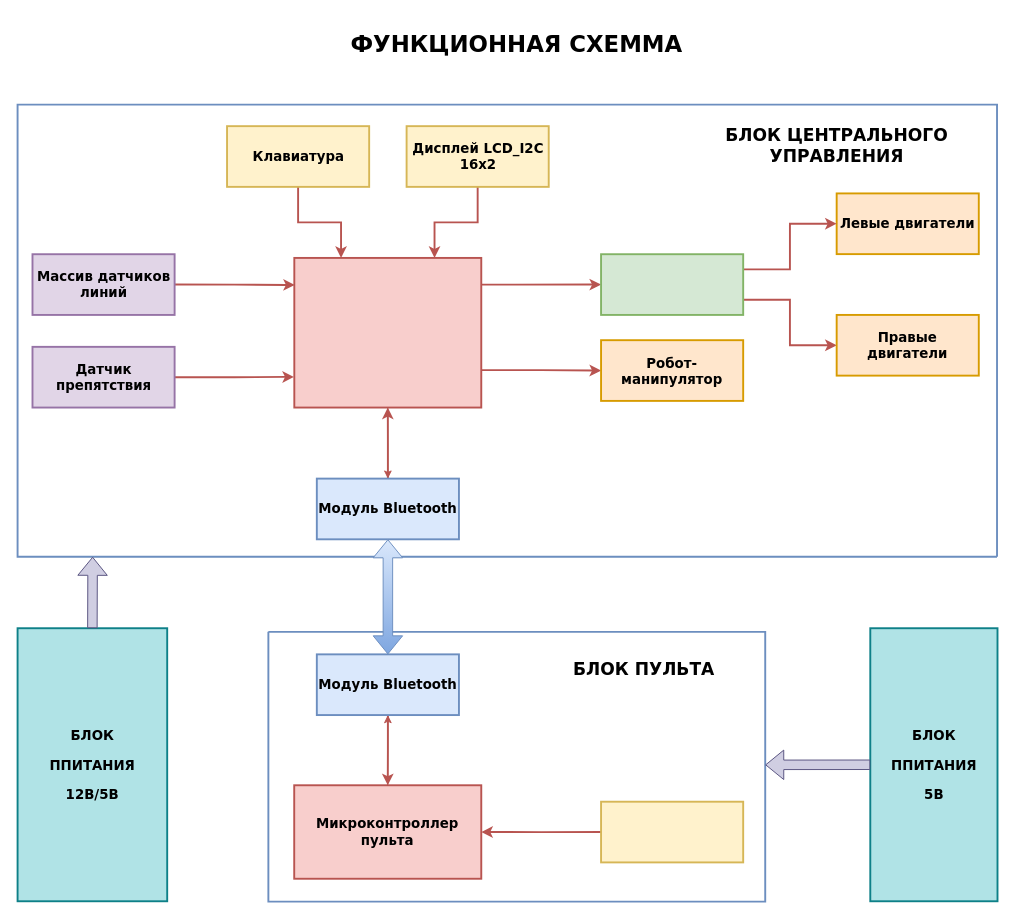
The diagram is 1015 pixels wide and 921 high, and some of its shapes have lost their labels. The centre of each missing label's shape, as x and y in pixels:
Двойной джойстик: (x=672, y=831)
Драйвер двигателей: (x=672, y=284)
Управляющий микроконтроллер: (x=387, y=332)
